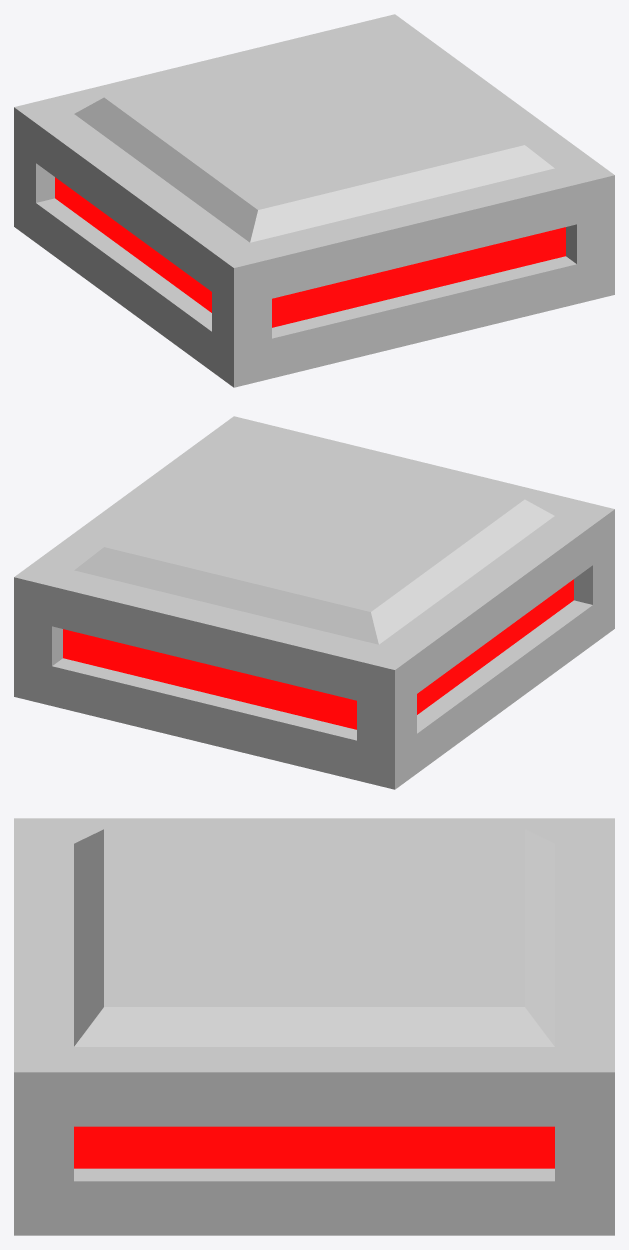
File: platform-metal.glb
The picture shows the model from 3 angles, top to bottom: view 1: azimuth 30°, elevation 25°; view 2: azimuth 150°, elevation 25°; view 3: azimuth 270°, elevation 25°; orthographic projection. The views are drawn at different scales.
Parts seen in each view (by area): view 1: Frame, Core; view 2: Frame, Core; view 3: Frame, Core.
Part boxes in pixels (<box>): Frame: <box>14,14,614,387</box>; Core: <box>55,177,565,327</box>; Frame: <box>14,416,614,789</box>; Core: <box>63,579,573,729</box>; Frame: <box>14,818,614,1235</box>; Core: <box>74,1126,554,1168</box>.
Size of what is drawn, in the model's own units: 2 by 0.8 by 2.
